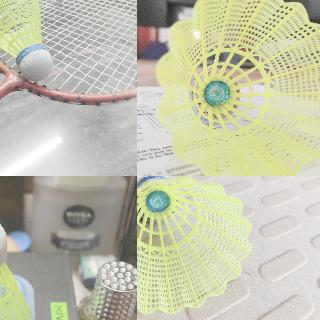shuttlecock: (155, 0, 319, 175), (137, 176, 252, 314), (0, 0, 53, 80), (0, 218, 34, 319)
